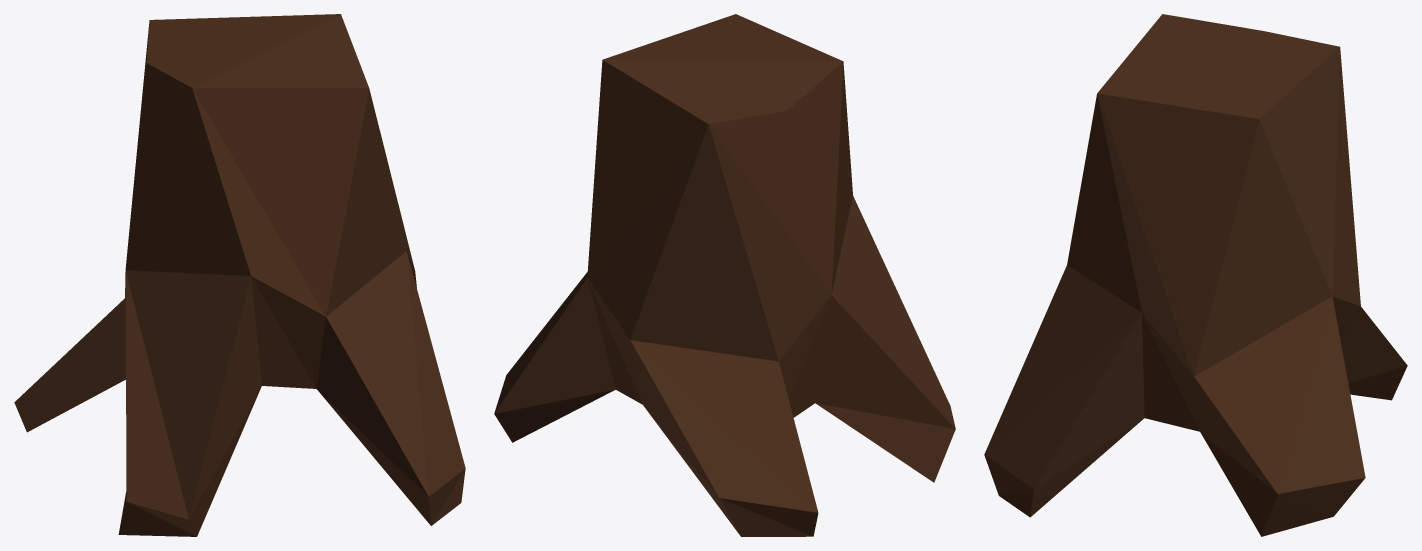
The model's file is Tree_Stump_01.fbx.
3 views of the same model, side by side, from view 1: azimuth 30°, elevation 25°; view 2: azimuth 150°, elevation 25°; view 3: azimuth 270°, elevation 25° (orthographic). The views are drawn at different scales.
Parts seen in each view (by area): view 1: Cylinder; view 2: Cylinder; view 3: Cylinder.
Part boxes in pixels (<box>): Cylinder: <box>14,14,465,536</box>; Cylinder: <box>494,14,955,536</box>; Cylinder: <box>984,14,1407,536</box>.
Size of the model in its own units: 82.94 by 88 by 82.08.
